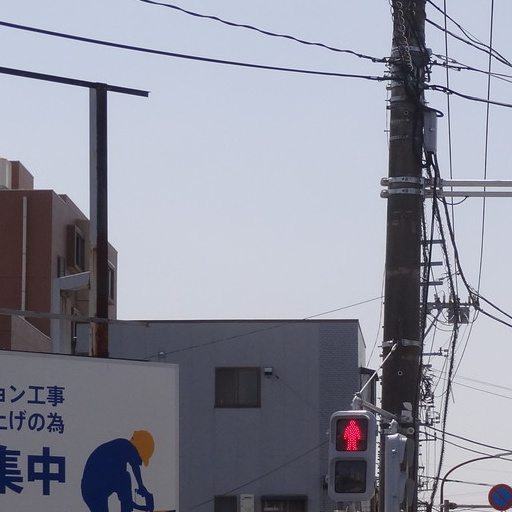Pedestrian_Signal_Red: (325, 397, 379, 496)
